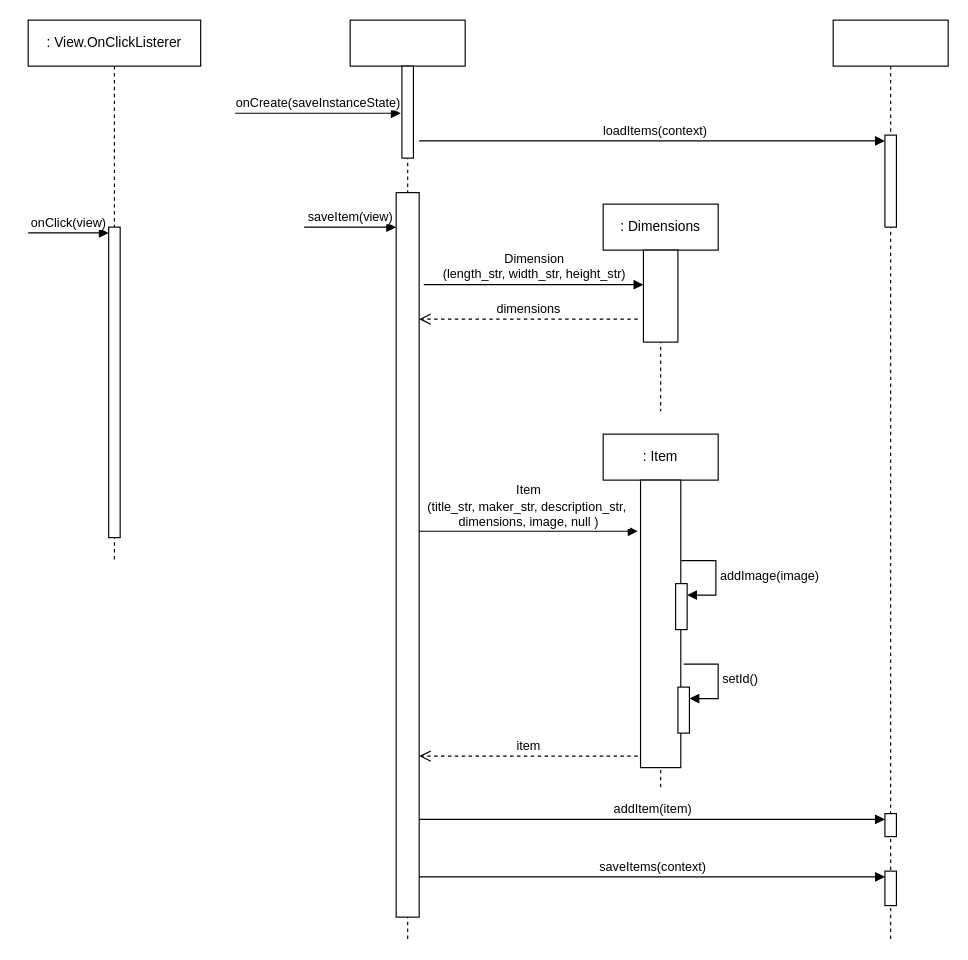
Some shapes in this 968 by 960 pixel diagram are drawn without their labels. Here are the shapes that lost their labels. From the top down, the box of each, then its label:
(349, 19, 465, 940): : AddItemActivity
(832, 19, 948, 940): : ItemList
